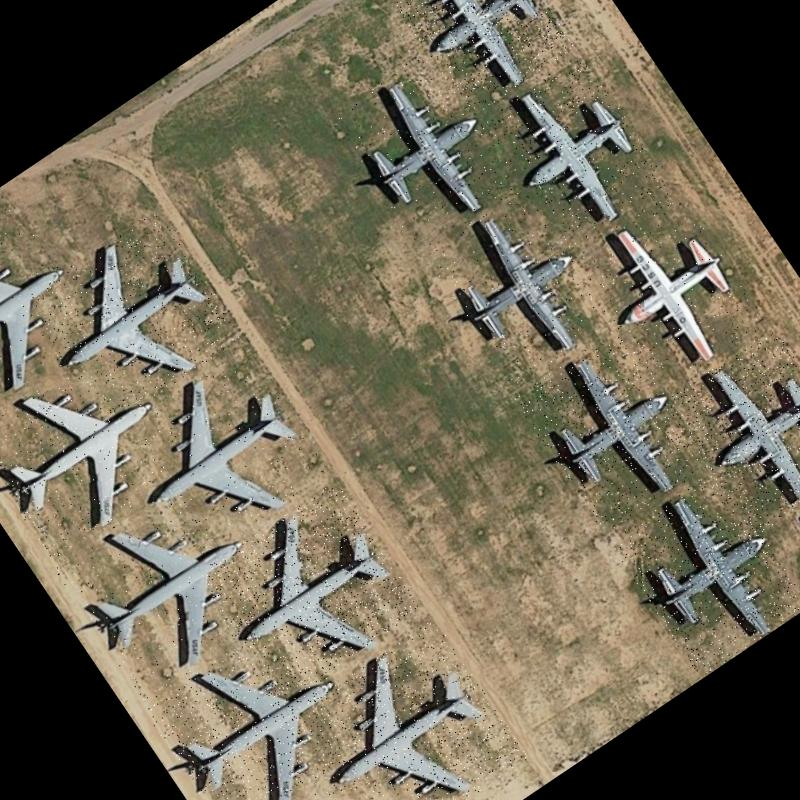A14: (52, 472, 286, 705), (194, 480, 422, 704), (18, 208, 244, 430), (106, 347, 330, 567), (284, 618, 529, 800), (143, 613, 372, 800), (0, 340, 192, 560), (0, 202, 102, 423), (233, 756, 438, 800)
A2: (326, 48, 526, 259), (568, 185, 768, 396), (514, 326, 714, 535), (607, 467, 800, 678), (422, 182, 618, 388), (481, 52, 669, 250), (662, 327, 800, 538), (379, 0, 576, 117)
